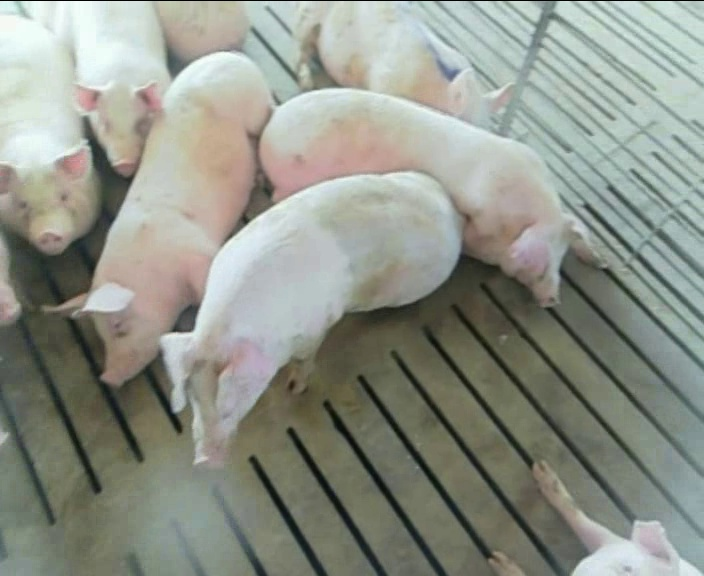pig: (161, 172, 462, 466), (40, 52, 271, 385), (260, 88, 604, 306), (295, 2, 511, 123), (71, 2, 169, 176)
